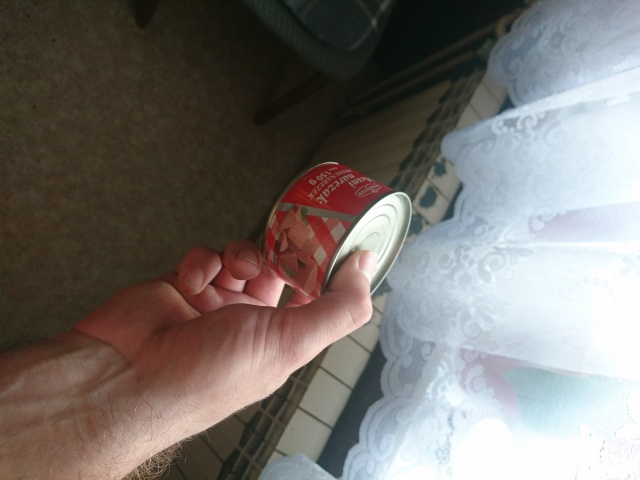Podravka Luncheon Meat 150g: (256, 156, 416, 316)
